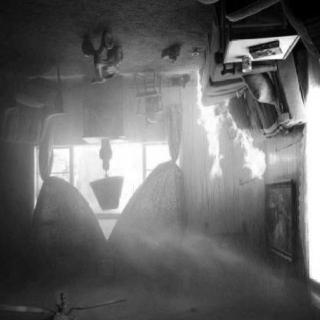Fire: (186, 69, 276, 189)
